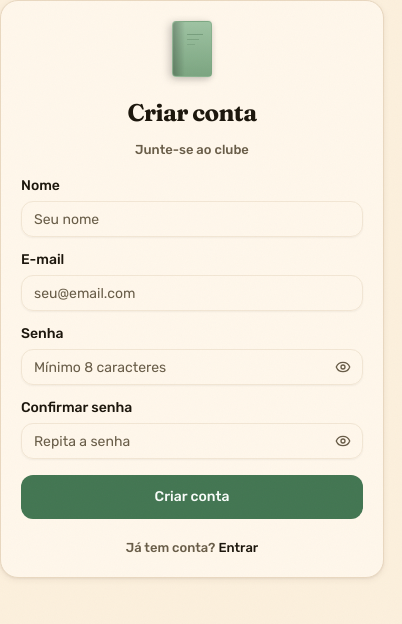
RegisterPage › shows error for password shorter than 8 characters
Type "Alice" into the field labelled "Nome".
click(192, 219); type("Alice")  # box [21, 201, 363, 237]
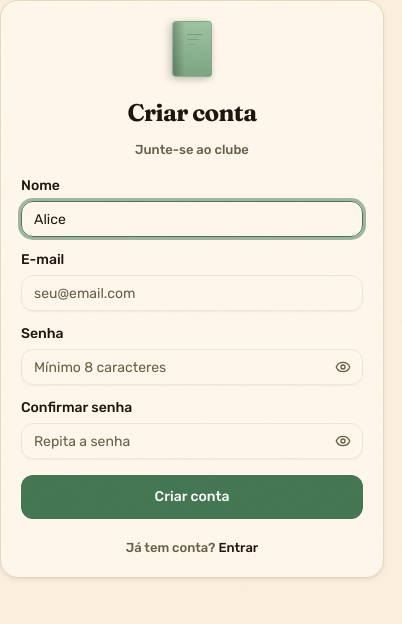
Type "alice@example.com" into the field labelled "E-mail".
click(192, 293); type("alice@example.com")  # box [21, 275, 363, 311]
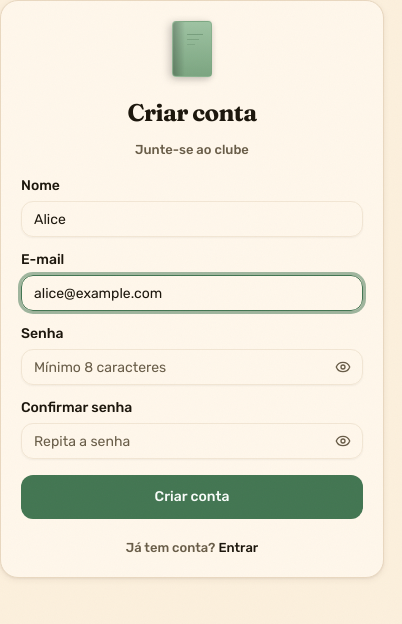
Type "short" into the password field labelled "Senha".
click(192, 367); type("short")  # box [21, 349, 363, 385]
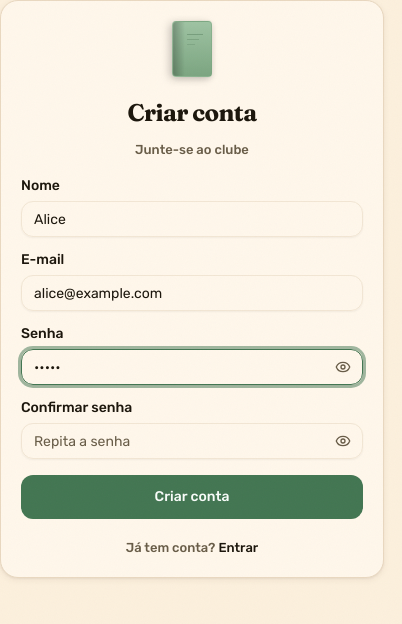
Type "short" into the password field labelled "Confirmar senha".
click(192, 441); type("short")  # box [21, 423, 363, 459]
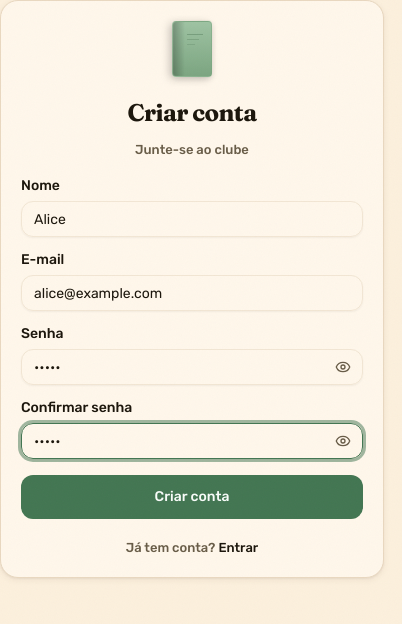
Click the button "Criar conta".
click(192, 497)  # box [21, 475, 363, 519]
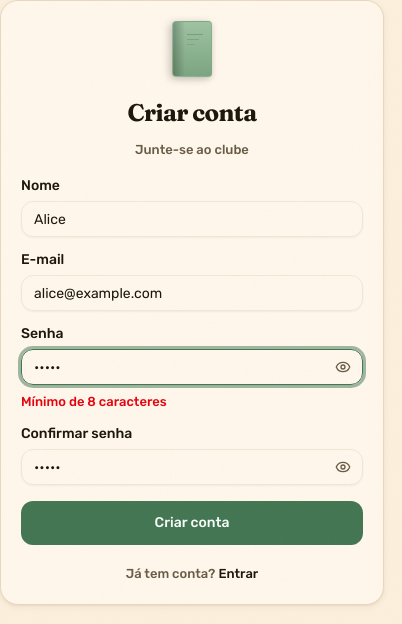
Expected: the text "Mínimo de 8 caracteres" is shown, [21, 394, 167, 409]
